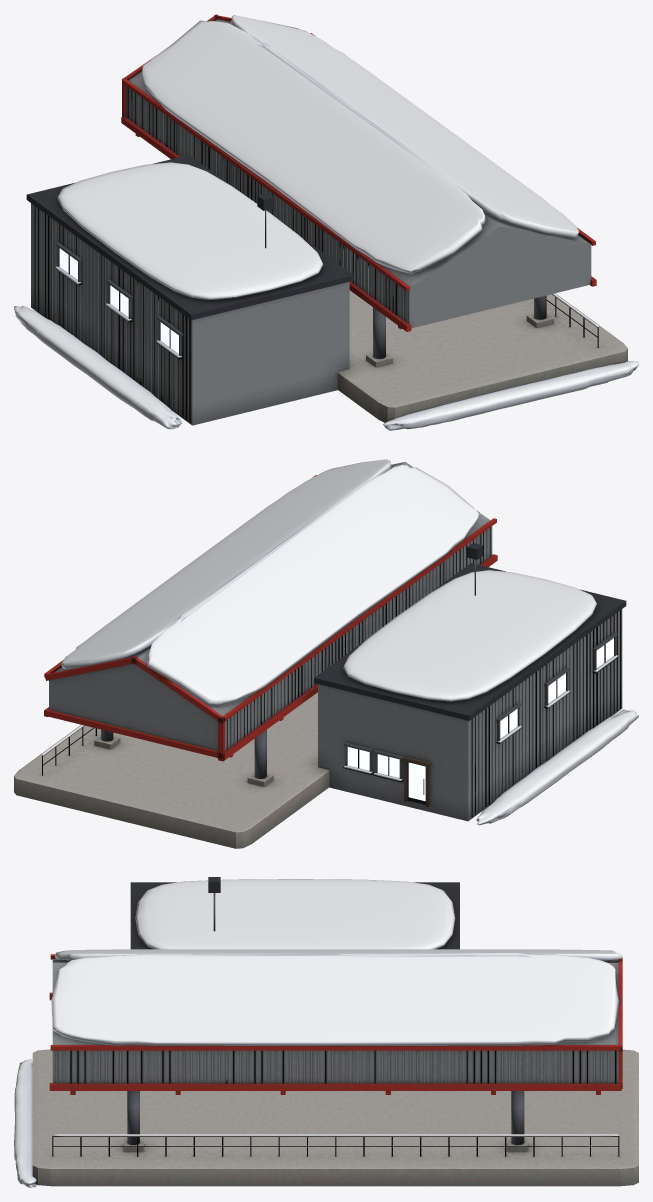
The model's file is silver_queen_top.glb.
3 views of the same model, one above another, from view 1: azimuth 30°, elevation 25°; view 2: azimuth 150°, elevation 25°; view 3: azimuth 270°, elevation 25° (orthographic). The views are drawn at different scales.
Parts seen in each view (by area): view 1: silver_queen_top_snow, silver_queen_top, silver_queen_top_lit; view 2: silver_queen_top, silver_queen_top_snow, silver_queen_top_lit; view 3: silver_queen_top, silver_queen_top_snow.
Part boxes in pixels (x1,y1,x2,y2): silver_queen_top_snow: (14,15,638,430); silver_queen_top: (26,14,627,425); silver_queen_top_lit: (59,248,178,353); silver_queen_top: (14,462,626,848); silver_queen_top_snow: (41,459,638,825); silver_queen_top_lit: (347,638,613,801); silver_queen_top: (32,877,638,1186); silver_queen_top_snow: (14,879,622,1187).
Bounding box in the file's own units: 24.07 × 9.76 × 30.92.
4 materials, 1 textured.
